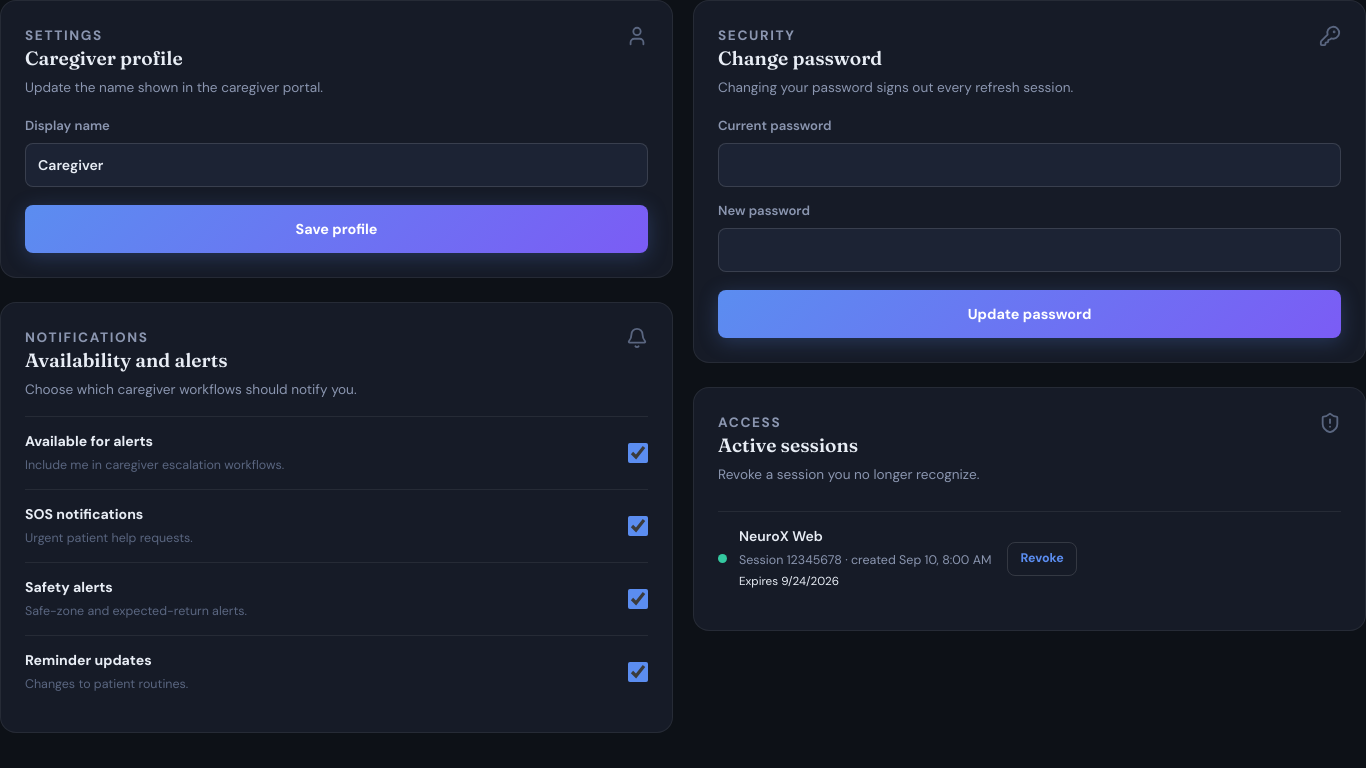
Test: SettingsPage sessions › revokes and removes a selected session
Click the button "Revoke" at (1042, 559), box [1007, 542, 1077, 576]
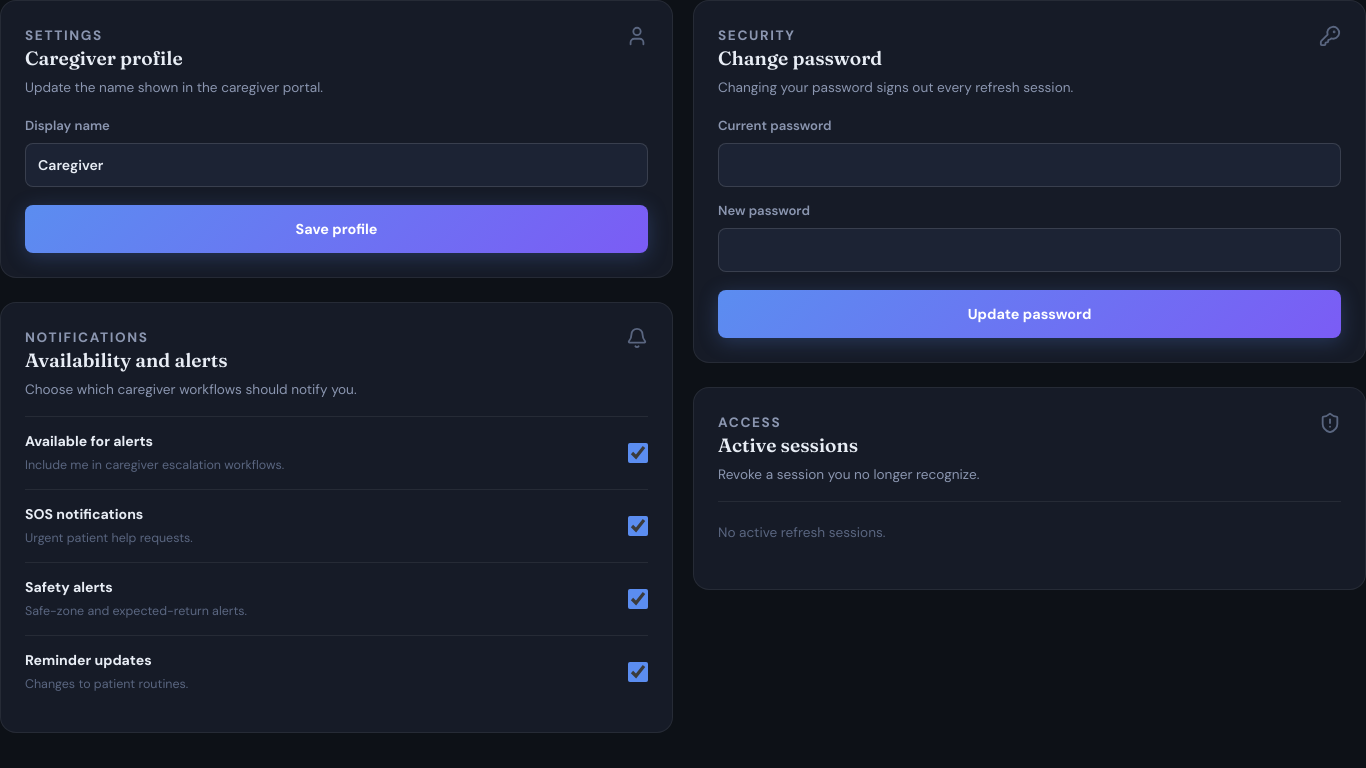
Expected: the text "NeuroX Web" is gone
